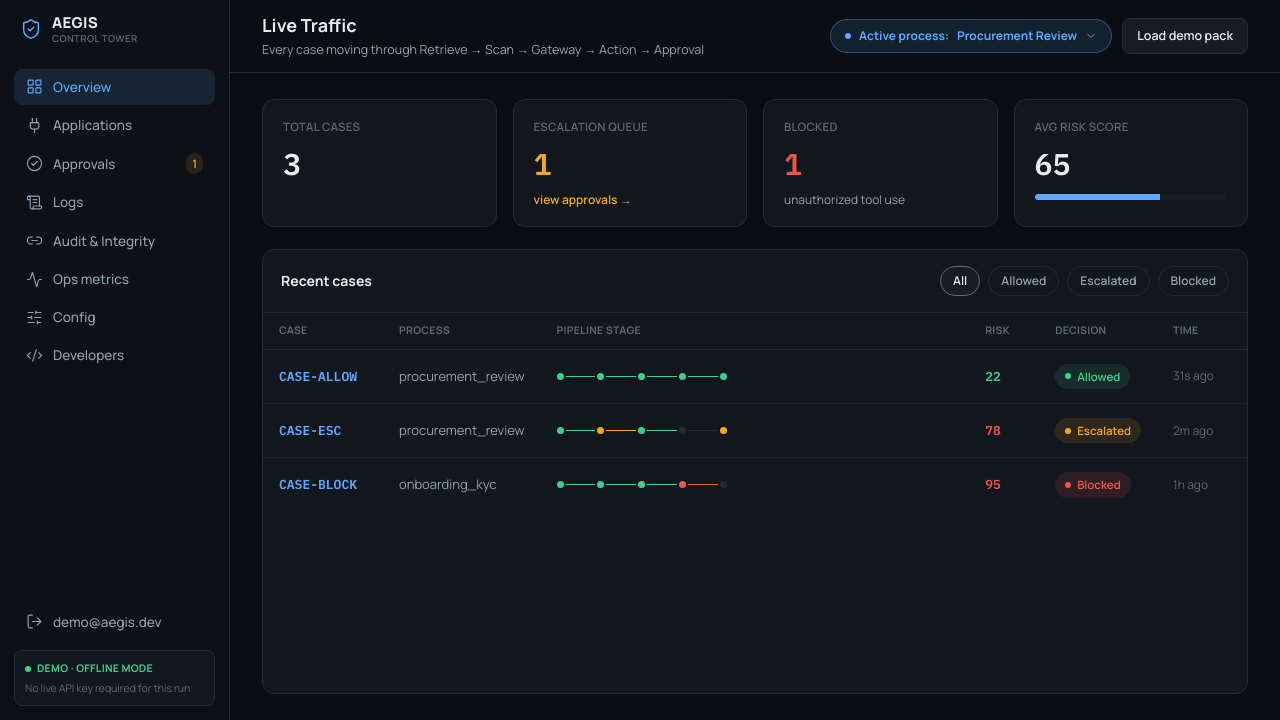
Test case: OverviewPage › loads demo pack
This screenshot has width=1280, height=720.
expect the link "CASE-ALLOW" is shown: met, box [279,368,357,385]
Click the button "Load demo pack" at (1185, 36), box [1122,18,1248,54]
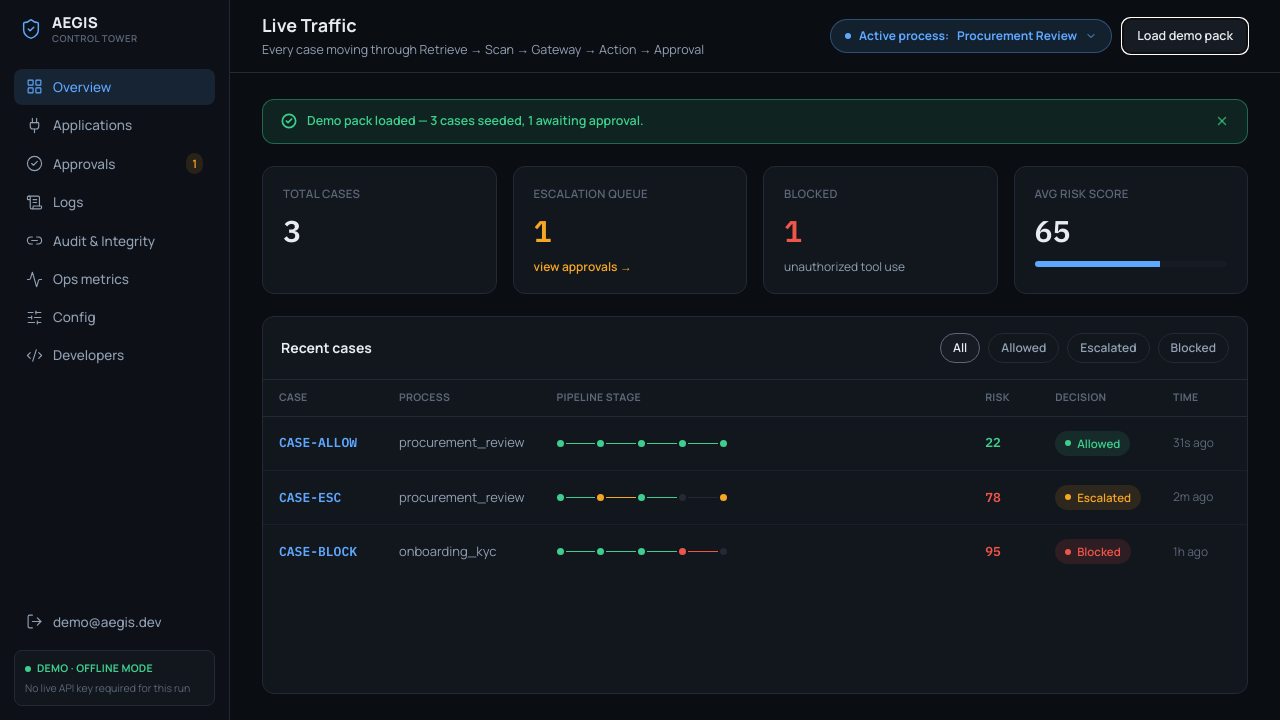
expect the text "Demo pack loaded — 3 cases seeded, 1 awaiting approval." is shown: met, box [262,99,1248,144]
Click the button named "Dismiss" at (1222, 121), box [1215,114,1229,128]
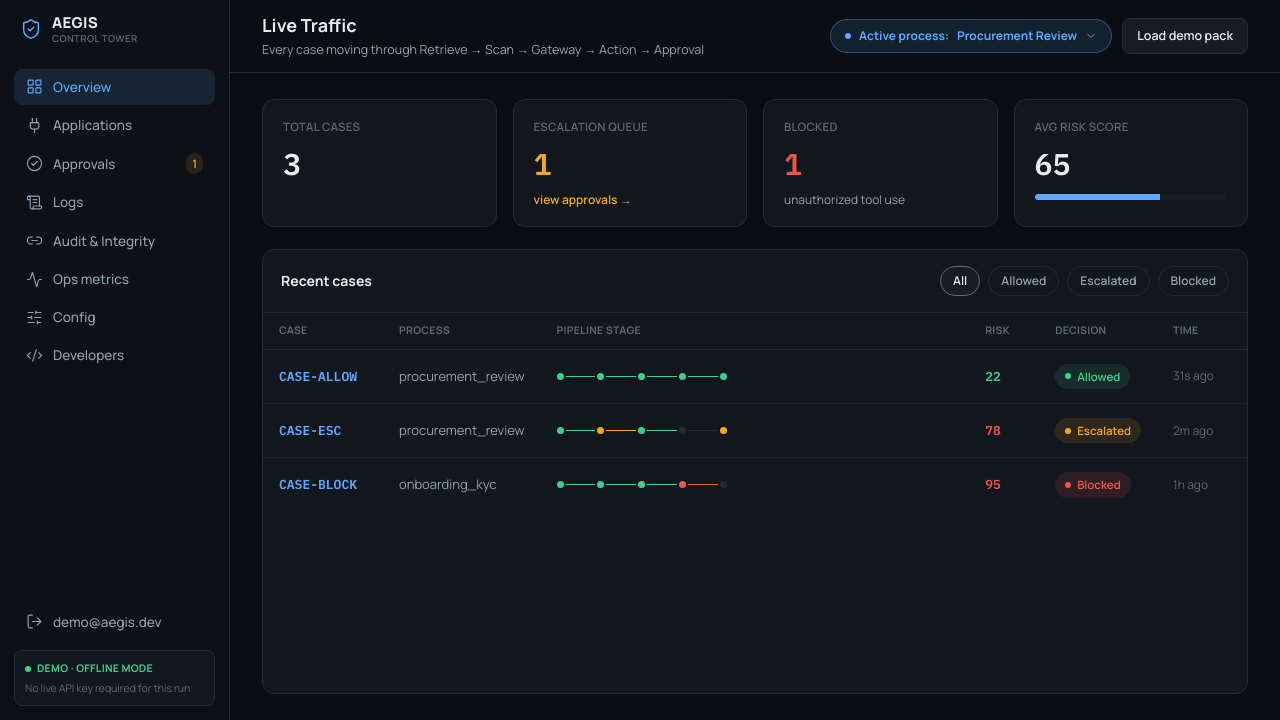
expect the text "Demo pack loaded" is gone: met
